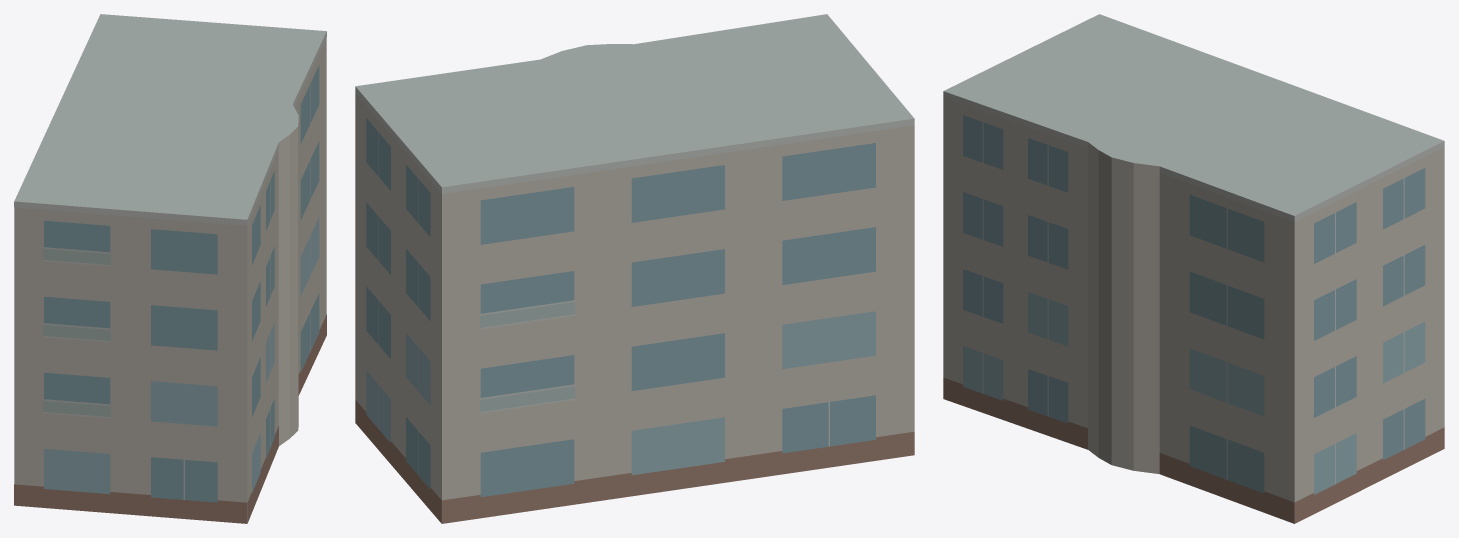
File: survey-upis-32568026.glb
3 views of the same model, side by side, from view 1: azimuth 30°, elevation 25°; view 2: azimuth 150°, elevation 25°; view 3: azimuth 270°, elevation 25° (orthographic). The views are drawn at different scales.
Parts seen in each view (by area): view 1: survey-upis-32568026.tmp; view 2: survey-upis-32568026.tmp; view 3: survey-upis-32568026.tmp.
Boxes of the visible parts, x1=… form: survey-upis-32568026.tmp: x1=14, y1=14, x2=326, y2=523; survey-upis-32568026.tmp: x1=355, y1=14, x2=914, y2=523; survey-upis-32568026.tmp: x1=943, y1=14, x2=1444, y2=523.
Bounding box in the file's own units: 17.32 × 12.3 × 18.16.
